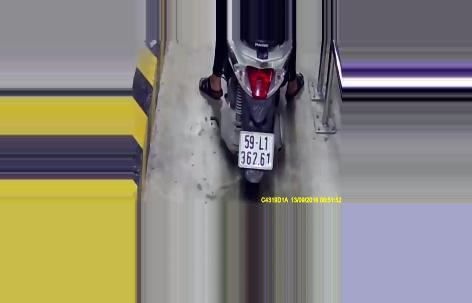License_Plate: (234, 128, 278, 171)
